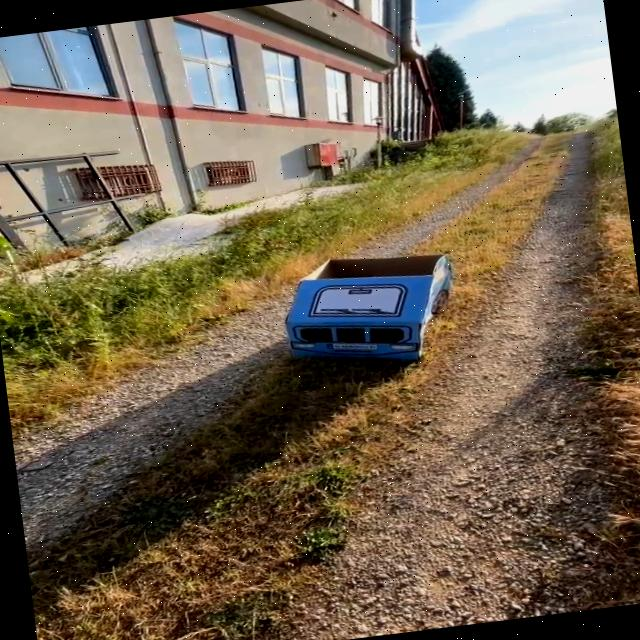blue_car: (238, 232, 493, 414)
